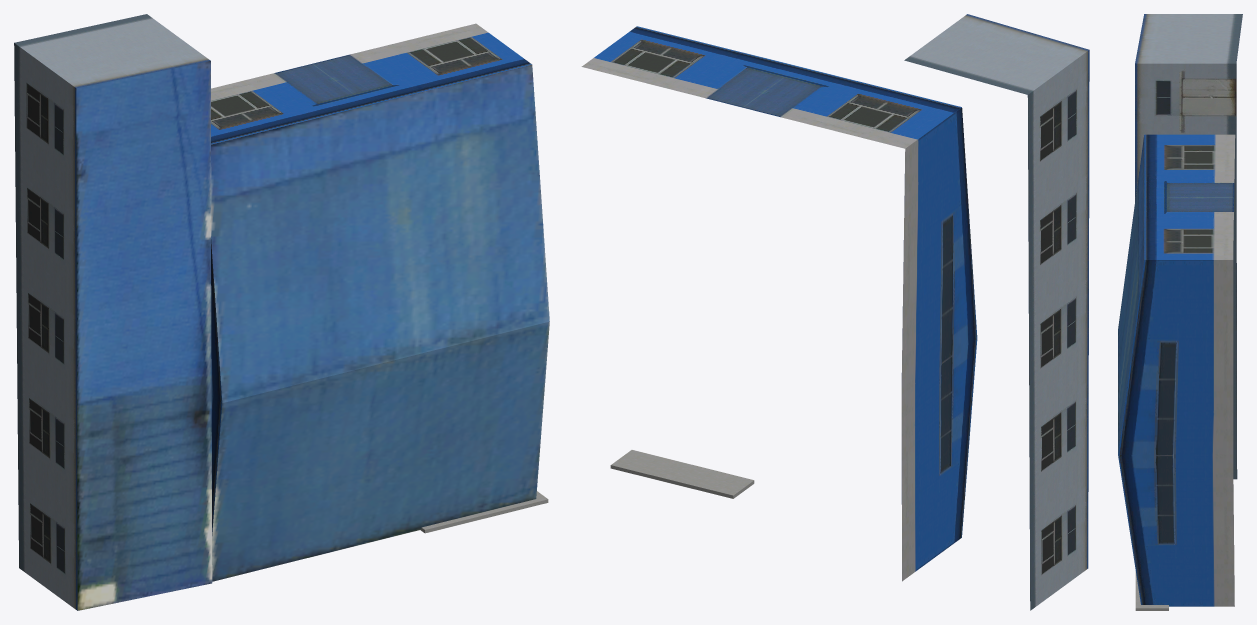
The picture shows the model from 3 angles, left to right: view 1: azimuth 30°, elevation 25°; view 2: azimuth 150°, elevation 25°; view 3: azimuth 270°, elevation 25°; orthographic projection. The views are drawn at different scales.
Visible parts, largest first — view 1: Group_MatrixTransform_i96059X_Geometry_8, Group_MatrixTransform_i96059X_Geometry_9, Group_MatrixTransform_i96059X_Geometry_4, Group_MatrixTransform_i96059X_Geometry_7, Group_MatrixTransform_i96059X_Geometry_3, Group_MatrixTransform_i96059X_Geometry_6, Group_MatrixTransform_i96059X_Geometry_5, Group_MatrixTransform_i96059X_Geometry_0; view 2: Group_MatrixTransform_i96059X_Geometry_4, Group_MatrixTransform_i96059X_Geometry_5, Group_MatrixTransform_i96059X_Geometry_7, Group_MatrixTransform_i96059X_Geometry_3, Group_MatrixTransform_i96059X_Geometry_6, Group_MatrixTransform_i96059X_Geometry_0; view 3: Group_MatrixTransform_i96059X_Geometry_5, Group_MatrixTransform_i96059X_Geometry_7, Group_MatrixTransform_i96059X_Geometry_2, Group_MatrixTransform_i96059X_Geometry_3, Group_MatrixTransform_i96059X_Geometry_6, Group_MatrixTransform_i96059X_Geometry_8, Group_MatrixTransform_i96059X_Geometry_0.
Boxes of the visible parts, x1,y1,x2,y2 form: Group_MatrixTransform_i96059X_Geometry_8: (211,64,549,581); Group_MatrixTransform_i96059X_Geometry_9: (76,61,212,610); Group_MatrixTransform_i96059X_Geometry_4: (14,43,77,610); Group_MatrixTransform_i96059X_Geometry_7: (211,23,531,144); Group_MatrixTransform_i96059X_Geometry_3: (14,14,210,88); Group_MatrixTransform_i96059X_Geometry_6: (257,50,422,118); Group_MatrixTransform_i96059X_Geometry_5: (211,239,222,535); Group_MatrixTransform_i96059X_Geometry_0: (420,491,548,533); Group_MatrixTransform_i96059X_Geometry_4: (1027,50,1089,610); Group_MatrixTransform_i96059X_Geometry_5: (901,107,977,581); Group_MatrixTransform_i96059X_Geometry_7: (581,26,961,148); Group_MatrixTransform_i96059X_Geometry_3: (904,14,1088,94); Group_MatrixTransform_i96059X_Geometry_6: (689,53,853,121); Group_MatrixTransform_i96059X_Geometry_0: (610,450,754,498); Group_MatrixTransform_i96059X_Geometry_5: (1118,260,1234,606); Group_MatrixTransform_i96059X_Geometry_7: (1144,134,1235,259); Group_MatrixTransform_i96059X_Geometry_2: (1135,63,1236,134); Group_MatrixTransform_i96059X_Geometry_3: (1135,14,1242,479); Group_MatrixTransform_i96059X_Geometry_6: (1144,176,1234,218); Group_MatrixTransform_i96059X_Geometry_8: (1118,135,1144,453); Group_MatrixTransform_i96059X_Geometry_0: (1135,571,1168,610).
Bounding box in the file's own units: 25.69 × 27.63 × 7.5.
10 materials, 10 textured.
